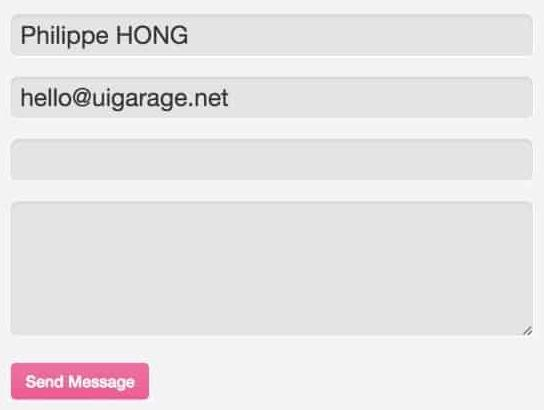button: (9, 362, 149, 401)
field: (7, 200, 533, 336), (8, 11, 535, 59), (6, 135, 531, 182), (6, 75, 534, 119)
